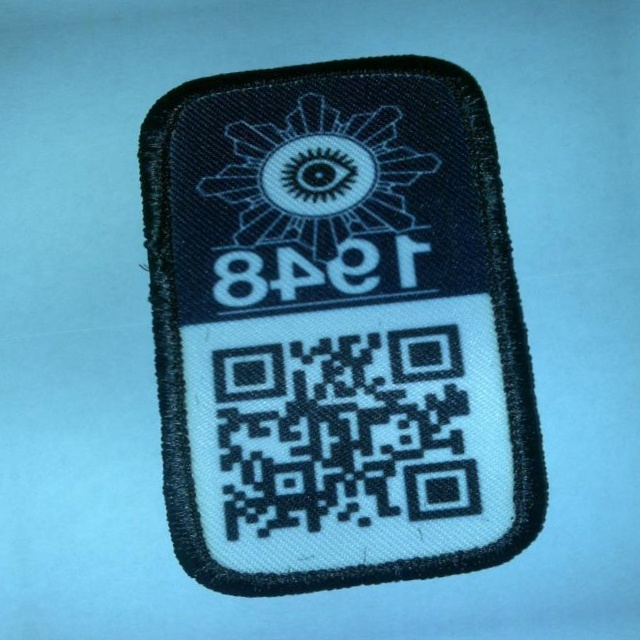qr-code: (209, 323, 482, 541)
